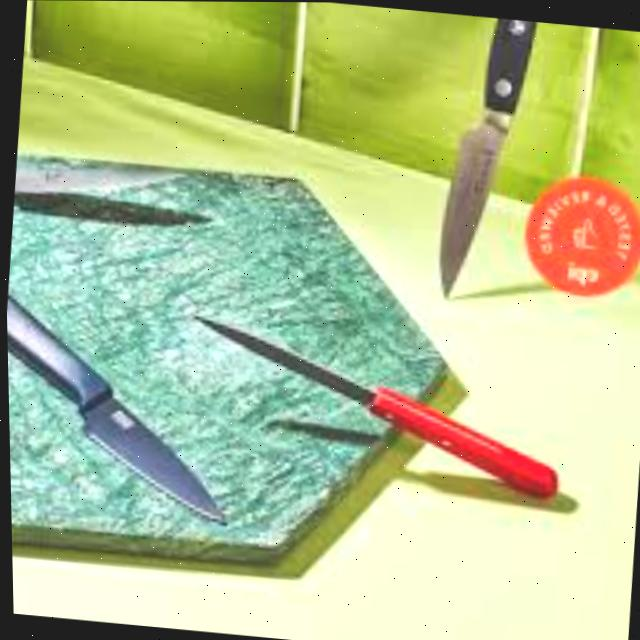Knife: (181, 313, 569, 499), (5, 262, 248, 525), (432, 13, 550, 305)
